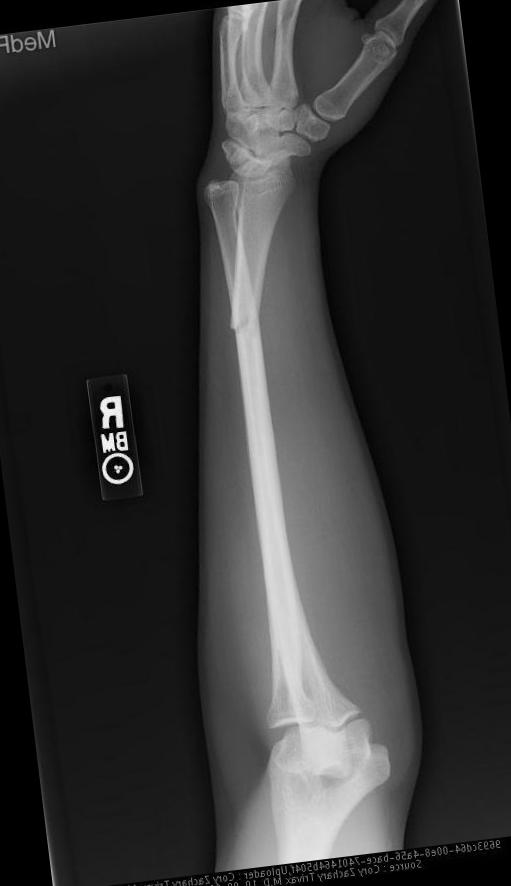angle: (226, 310, 262, 332)
